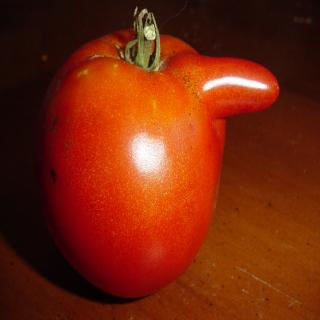Tomato: (39, 5, 279, 300)
